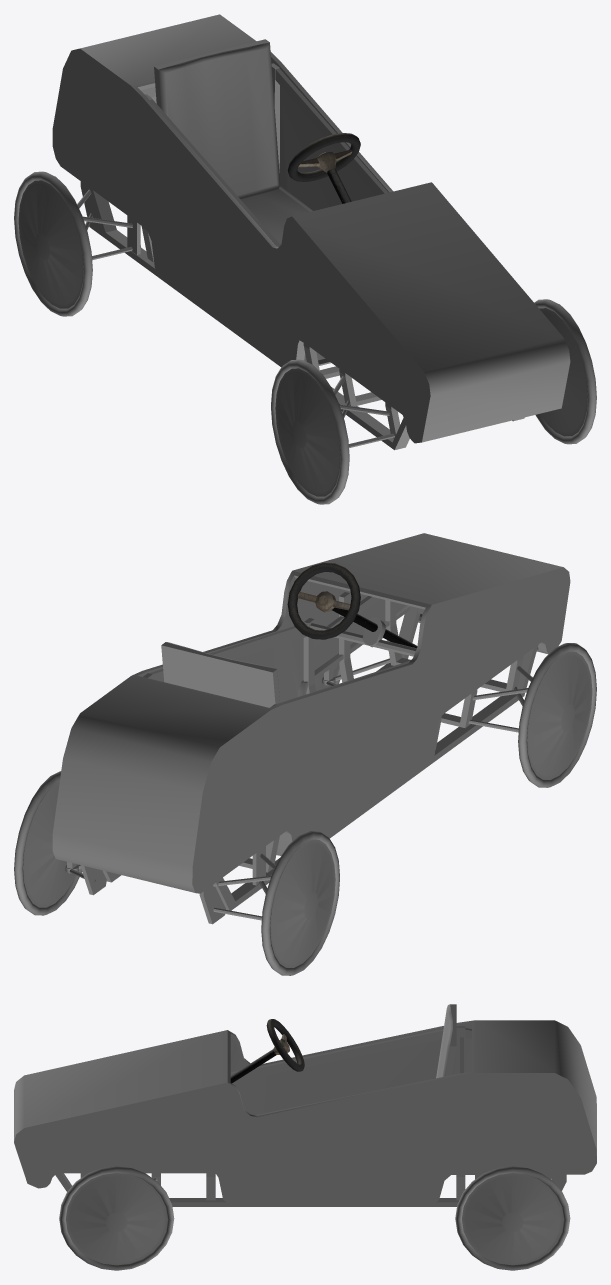
Rendered from Soapbox_Car.obj.
3 renders of one model, top to bottom at view 1: azimuth 30°, elevation 25°; view 2: azimuth 150°, elevation 25°; view 3: azimuth 270°, elevation 25°, orthographic. The views are drawn at different scales.
Parts seen in each view (by area): view 1: Car, FR_Wheel, RR_Wheel, FL_Wheel, Steerwheel; view 2: Car, RR_Wheel, FR_Wheel, RL_Wheel, Steerwheel; view 3: Car, RL_Wheel, FL_Wheel, Steerwheel.
Boxes of the visible parts, box(x1,y1,x2,y2) form: Car: box(52, 14, 570, 450); FR_Wheel: box(271, 359, 349, 504); RR_Wheel: box(14, 171, 92, 316); FL_Wheel: box(534, 299, 596, 444); Steerwheel: box(287, 133, 360, 203); Car: box(52, 533, 570, 924); RR_Wheel: box(261, 831, 339, 975); FR_Wheel: box(518, 643, 596, 787); RL_Wheel: box(14, 771, 82, 915); Steerwheel: box(287, 562, 417, 648); Car: box(14, 1004, 596, 1206); RL_Wheel: box(455, 1166, 570, 1270); FL_Wheel: box(59, 1166, 174, 1270); Steerwheel: box(230, 1019, 304, 1083).
Bounding box in the file's own units: 0.7731 × 0.7216 × 1.89.
